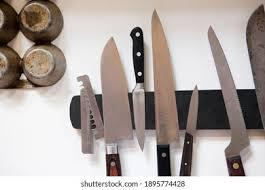Knife: (207, 24, 249, 176), (100, 36, 133, 175), (151, 7, 178, 176), (129, 26, 145, 151), (179, 84, 198, 175)
